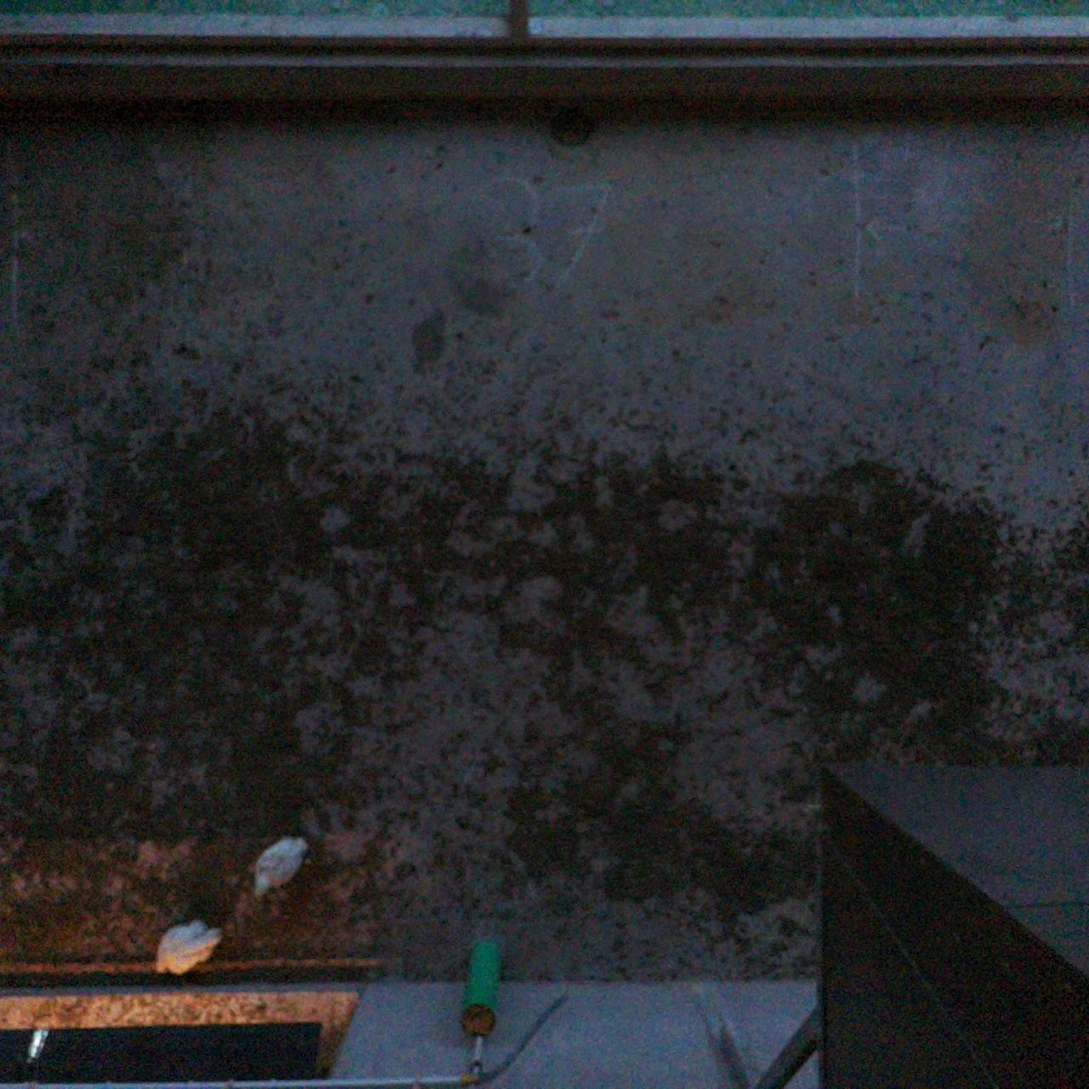chicken: (150, 914, 229, 983), (245, 830, 312, 909)
